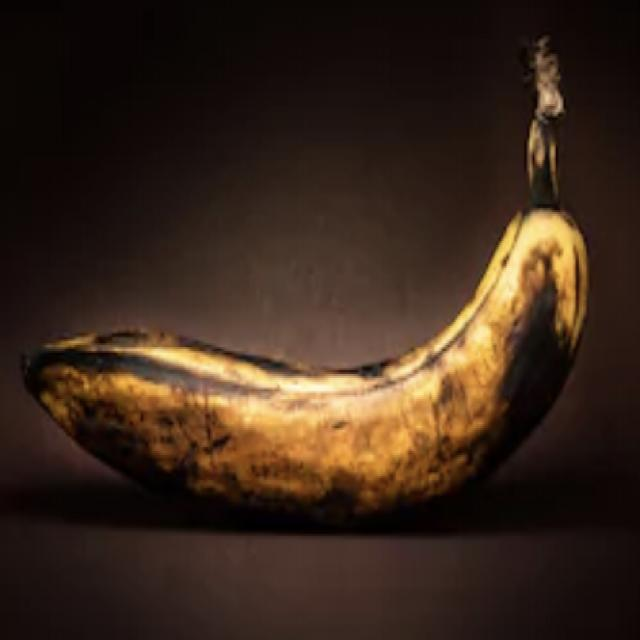rotten-banana: (22, 147, 618, 508)
